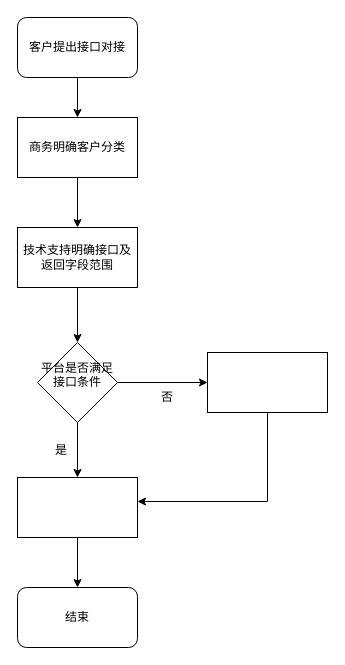
Image size: 345x665. Some labels were removed from this diagram. Here are the shapes that lost their labels. From the top down, the centre of each, then its label:
[267,382]: 研发排期开发
[77,507]: 配置接口及字段权限，提供接口文档给到客户
